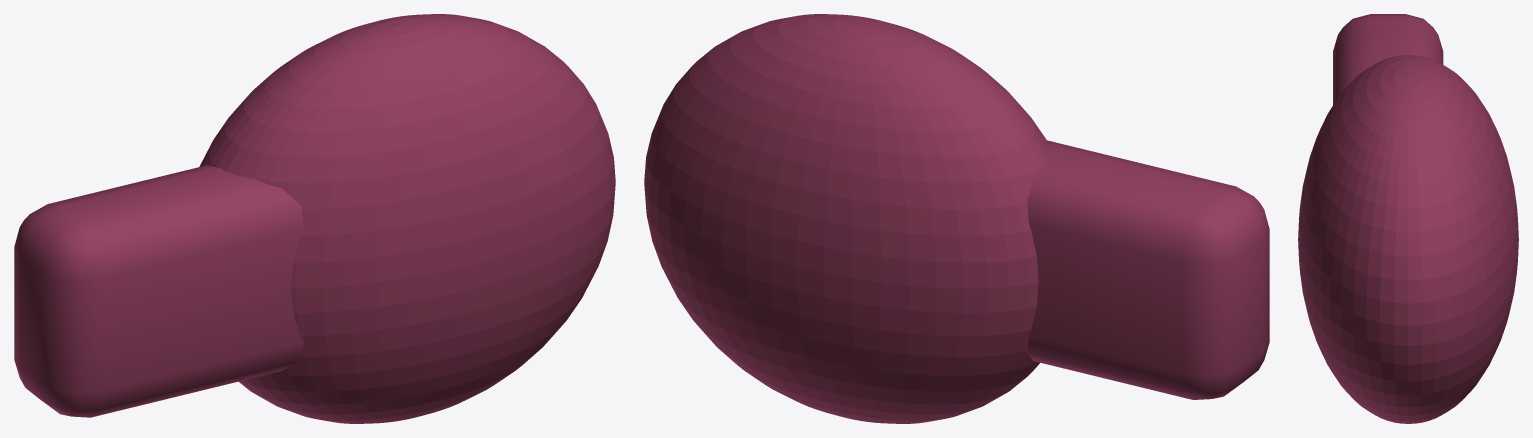
Rendered from shoe.glb.
The picture shows the model from 3 angles, left to right: view 1: azimuth 30°, elevation 25°; view 2: azimuth 150°, elevation 25°; view 3: azimuth 270°, elevation 25°; orthographic projection. The views are drawn at different scales.
Visible parts, largest first — view 1: IMPAR_SHOE_PROXY; view 2: IMPAR_SHOE_PROXY; view 3: IMPAR_SHOE_PROXY.
Part boxes in pixels (bbox=[...]): IMPAR_SHOE_PROXY: bbox=[14, 14, 615, 423]; IMPAR_SHOE_PROXY: bbox=[644, 14, 1269, 423]; IMPAR_SHOE_PROXY: bbox=[1298, 14, 1518, 423].
Size of the model in its own units: 1.98 by 1.24 by 0.76.
